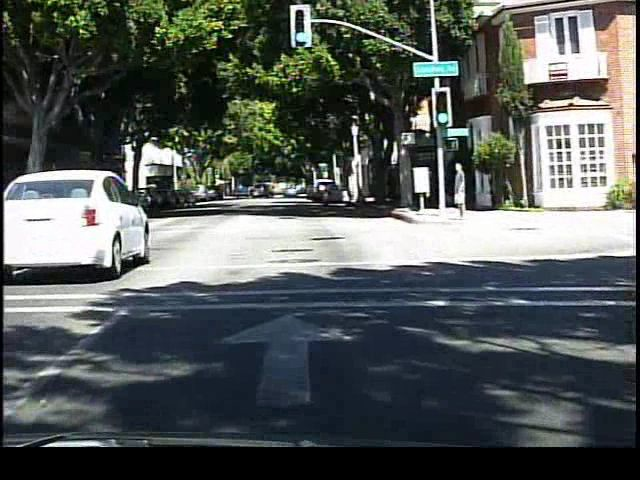person: (449, 158, 471, 219)
